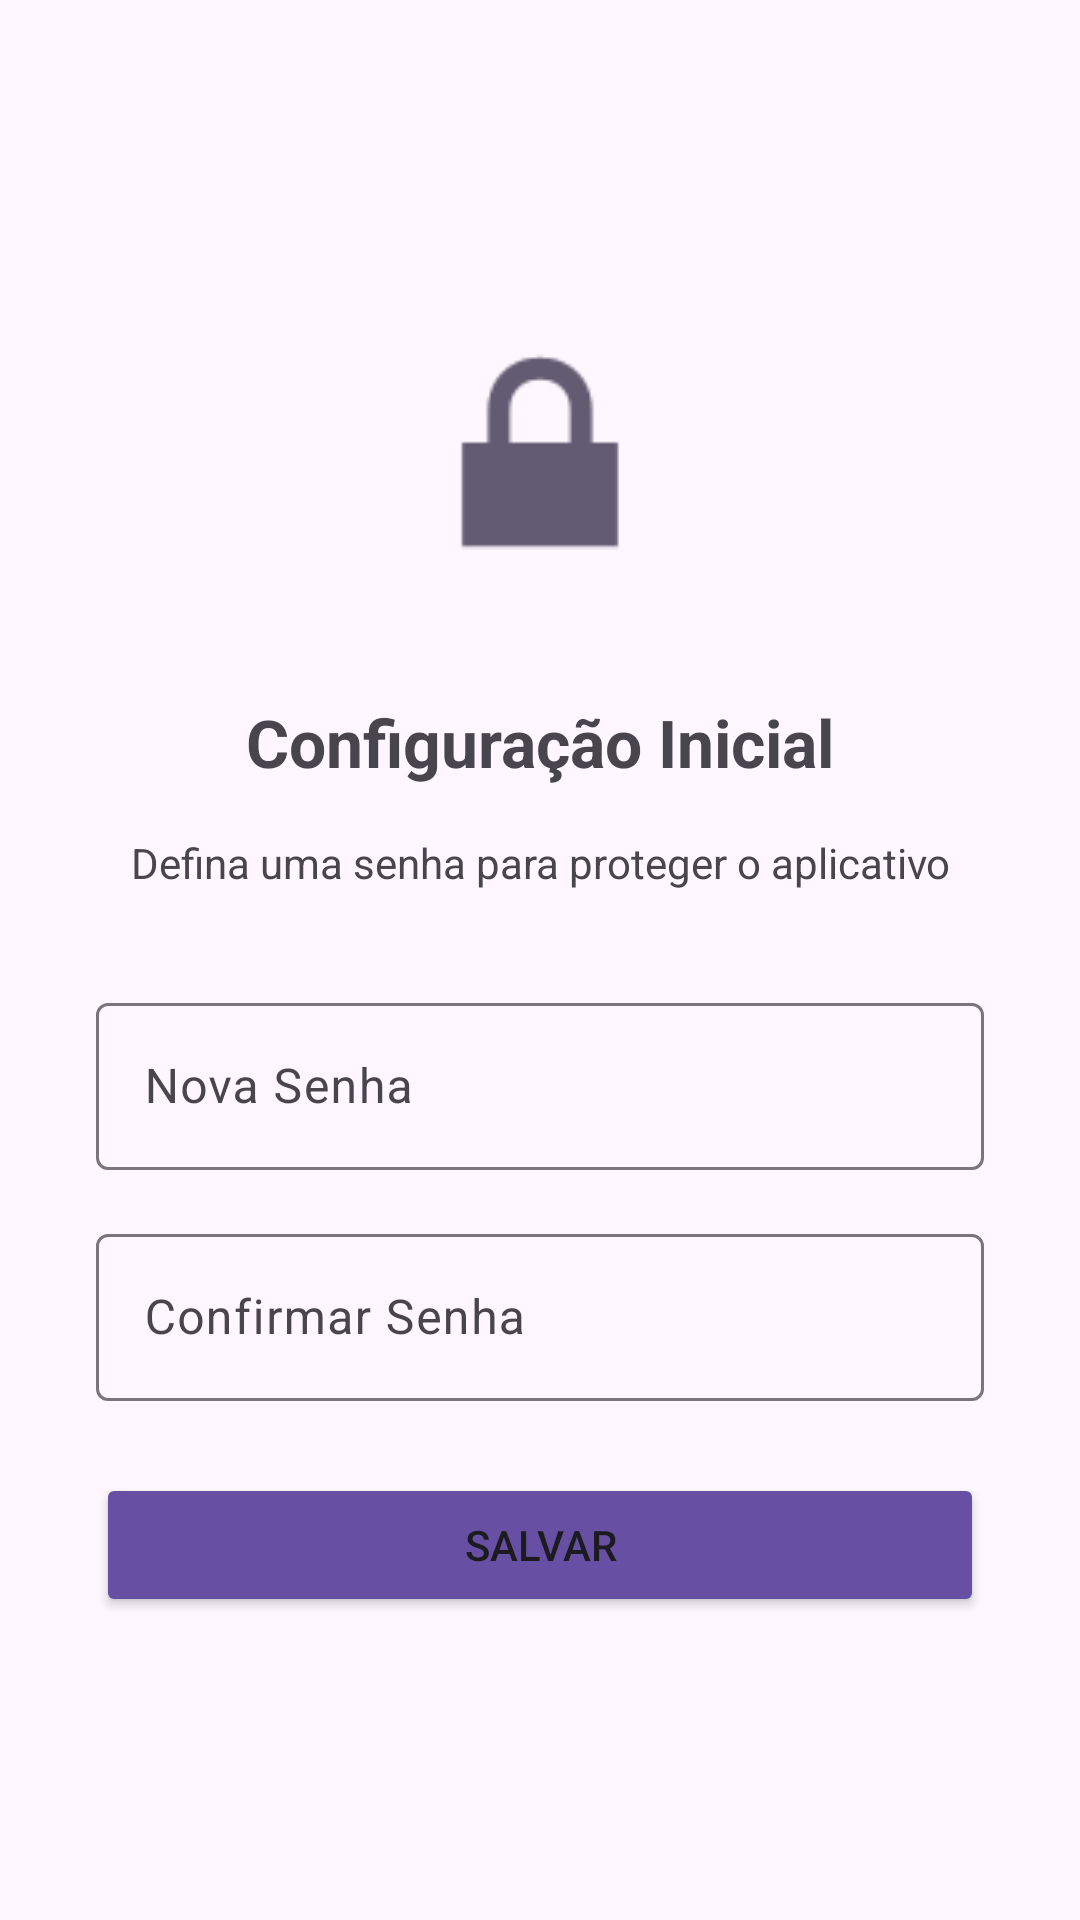

Locate icon controls on the screen. Image size 1080*1920, boxes as bbox(x1, y1, x2, y2).
lock: bbox(461, 356, 619, 548)
